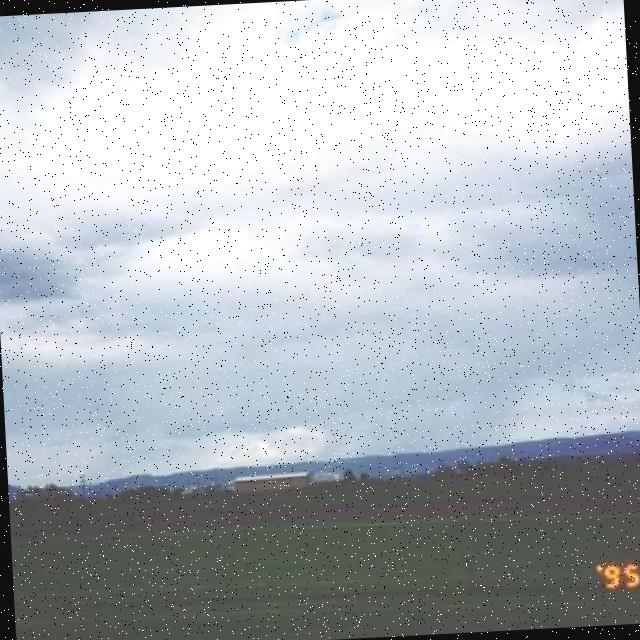Ns: (1, 53, 640, 441)
